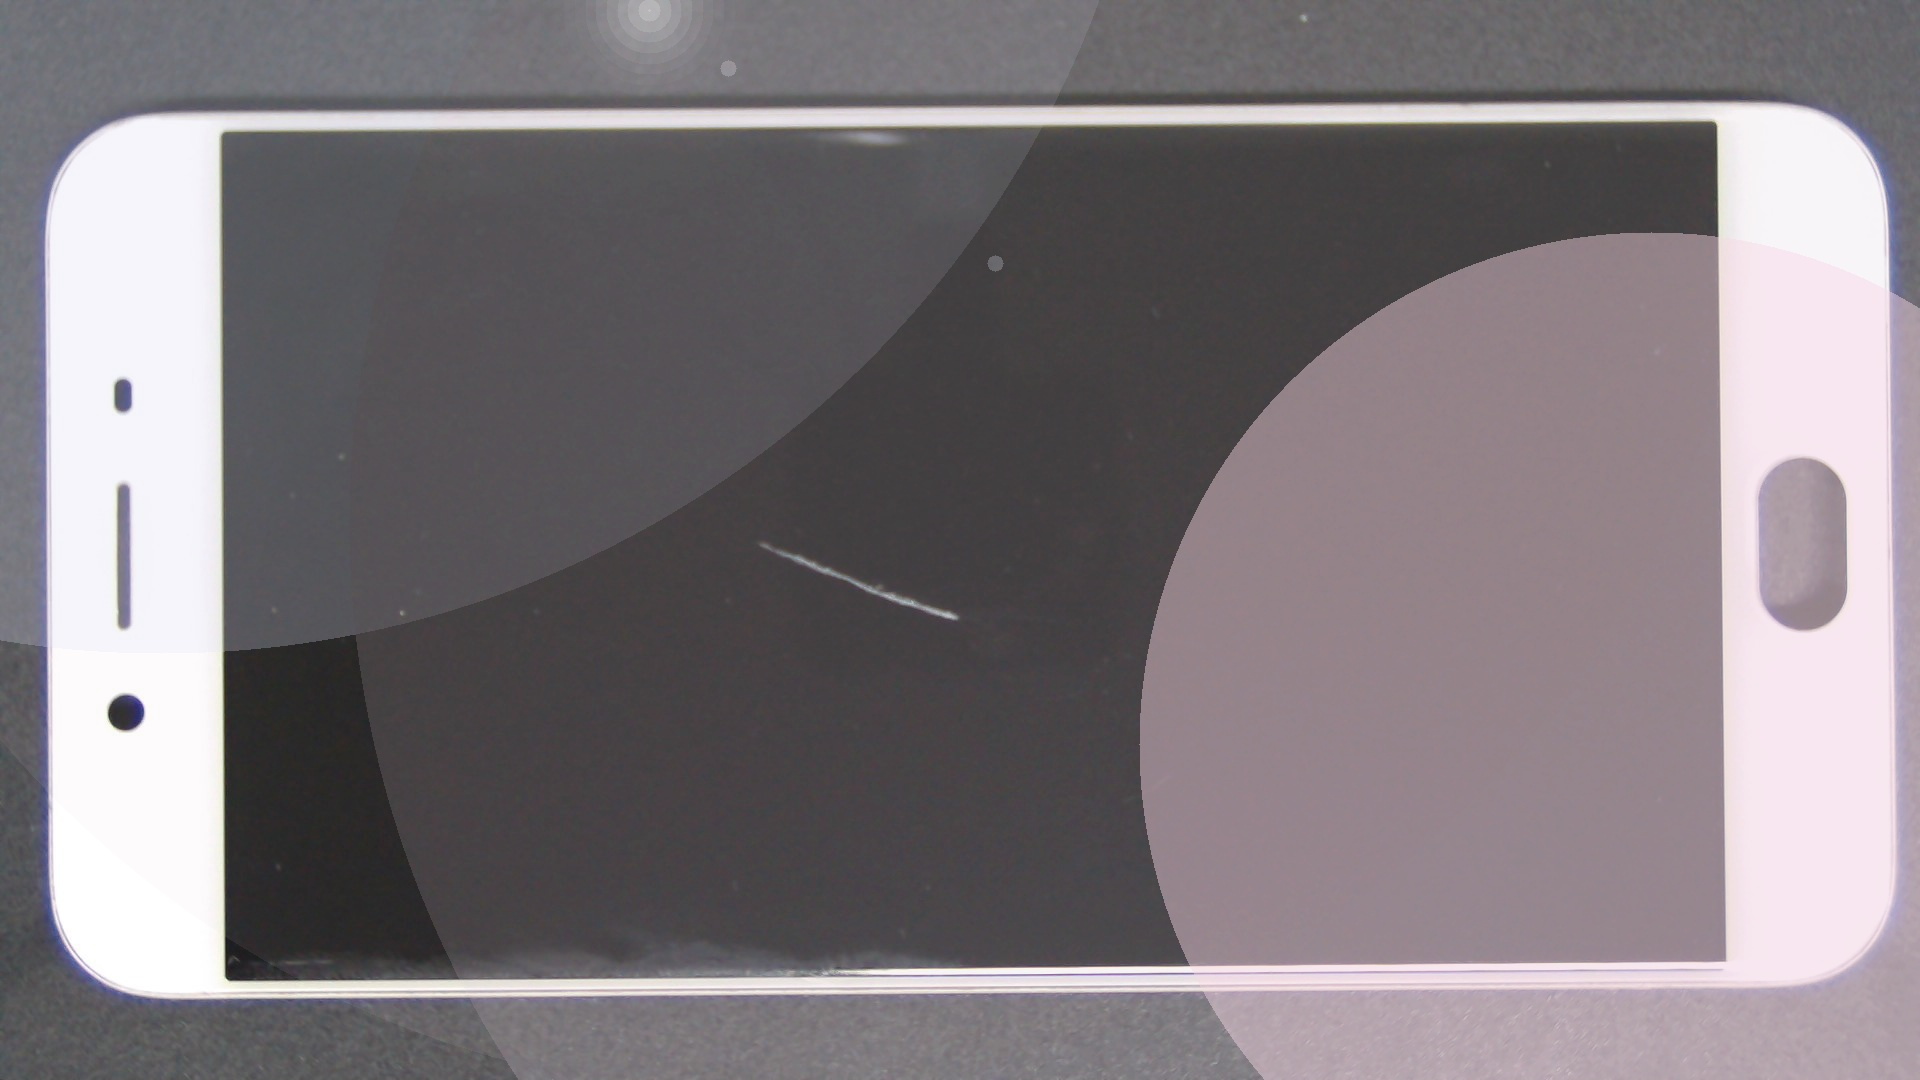oil: (381, 269, 1139, 811)
